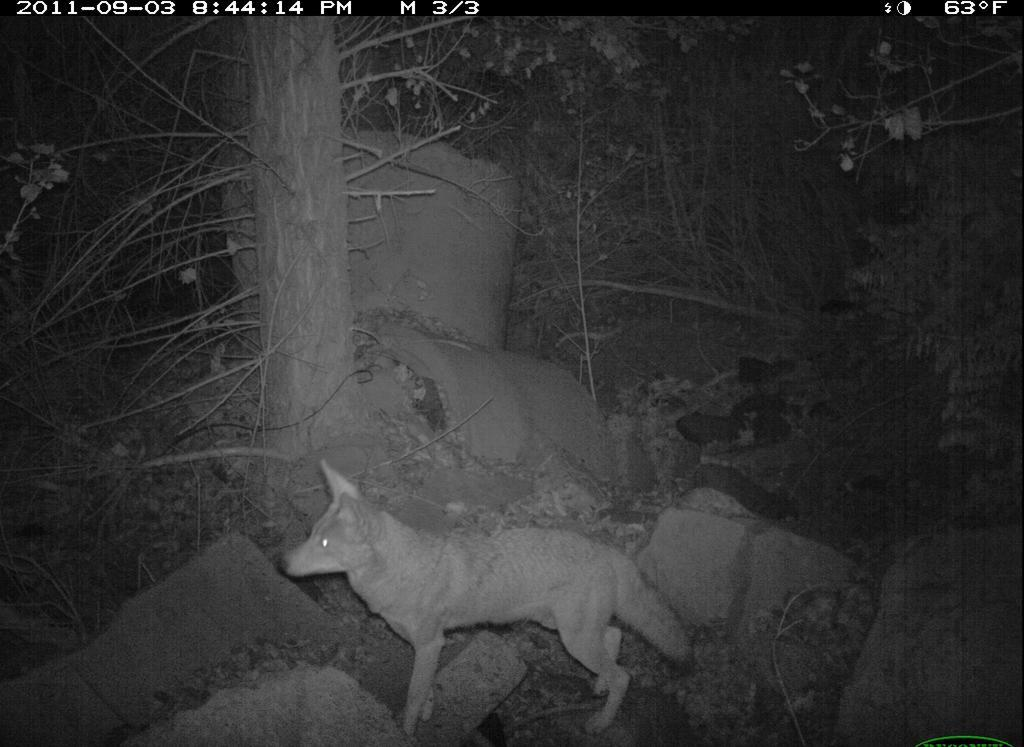coyote: (274, 452, 701, 740)
